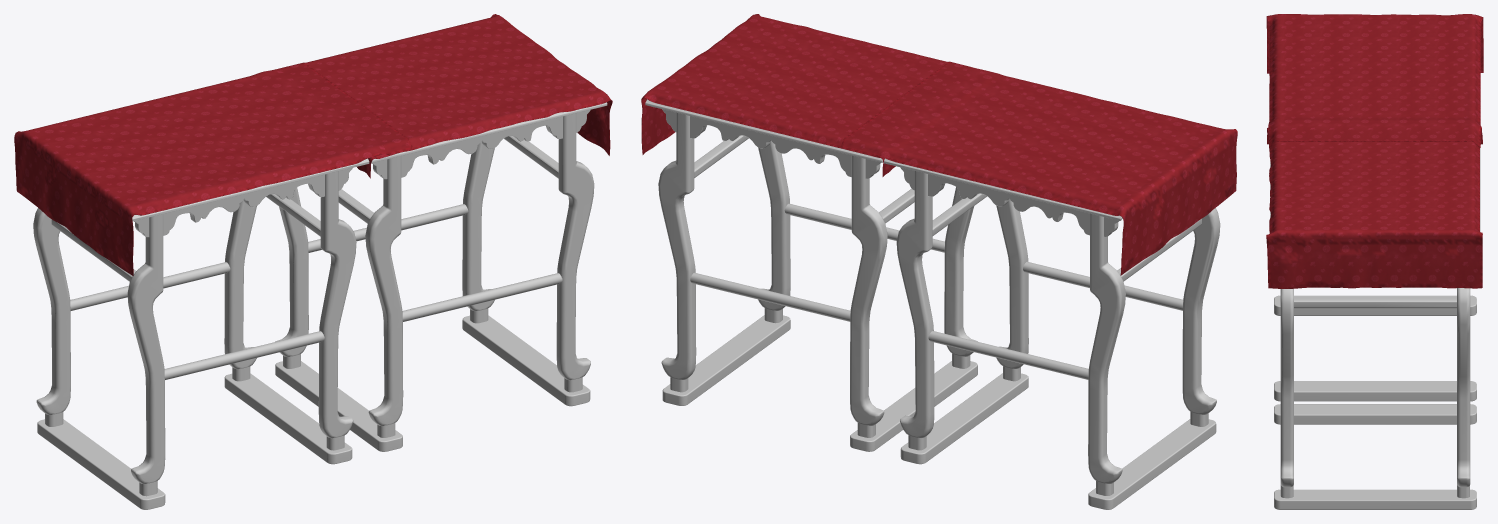
File: SM_GJJ_TableA.fbx
The picture shows the model from 3 angles, left to right: view 1: azimuth 30°, elevation 25°; view 2: azimuth 150°, elevation 25°; view 3: azimuth 270°, elevation 25°; orthographic projection. The views are drawn at different scales.
Parts seen in each view (by area): view 1: SM_GJJ_TableA01, SM_GJJ_TableA02; view 2: SM_GJJ_TableA01, SM_GJJ_TableA02; view 3: SM_GJJ_TableA02, SM_GJJ_TableA01.
Part boxes in pixels (box(x1,y1,x2,y2)): SM_GJJ_TableA01: box(14, 62, 413, 509); SM_GJJ_TableA02: box(275, 14, 612, 451); SM_GJJ_TableA01: box(840, 61, 1237, 509); SM_GJJ_TableA02: box(641, 14, 977, 451); SM_GJJ_TableA02: box(1266, 128, 1482, 509); SM_GJJ_TableA01: box(1266, 14, 1483, 401).
Size of the model in its own units: 110 by 66.58 by 45.78.
